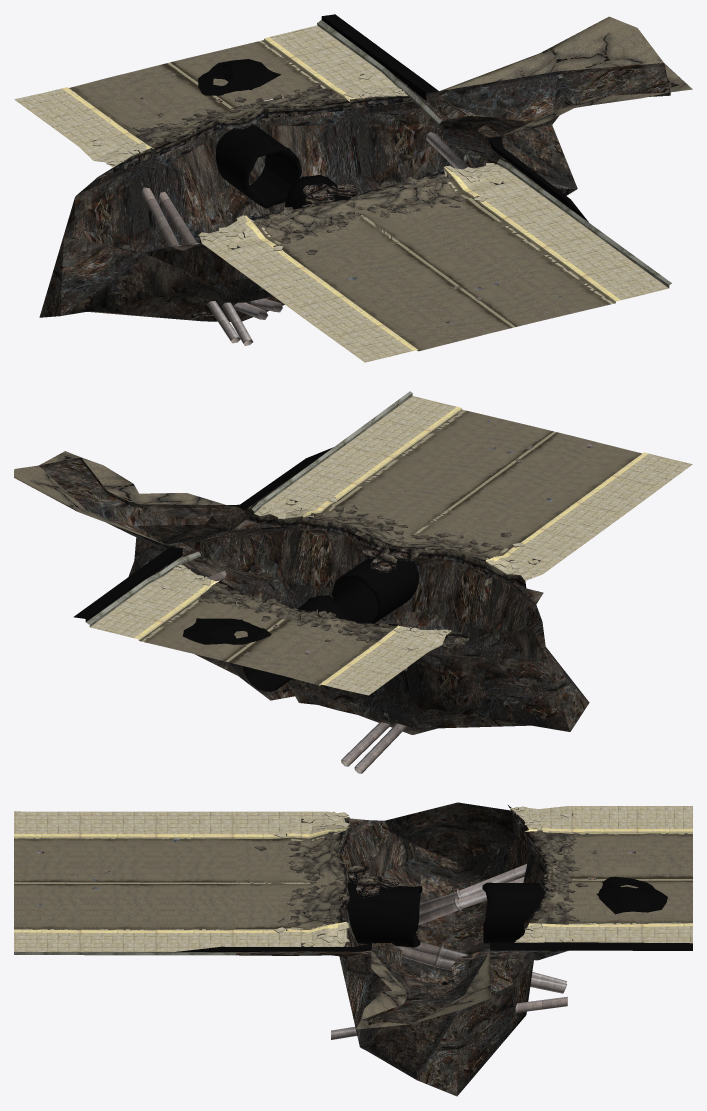
File: Damaged_Road_Part_02.fbx
3 views of the same model, one above another, from view 1: azimuth 30°, elevation 25°; view 2: azimuth 150°, elevation 25°; view 3: azimuth 270°, elevation 25° (orthographic). The views are drawn at different scales.
Visible parts, largest first — view 1: Damaged_Road_Part_02; view 2: Damaged_Road_Part_02; view 3: Damaged_Road_Part_02.
Boxes of the visible parts, x1,y1,x2,y2 form: Damaged_Road_Part_02: (14,14,692,362); Damaged_Road_Part_02: (14,391,692,773); Damaged_Road_Part_02: (14,802,692,1096).
Bounding box in the file's own units: 3652 × 1120 × 3698.
